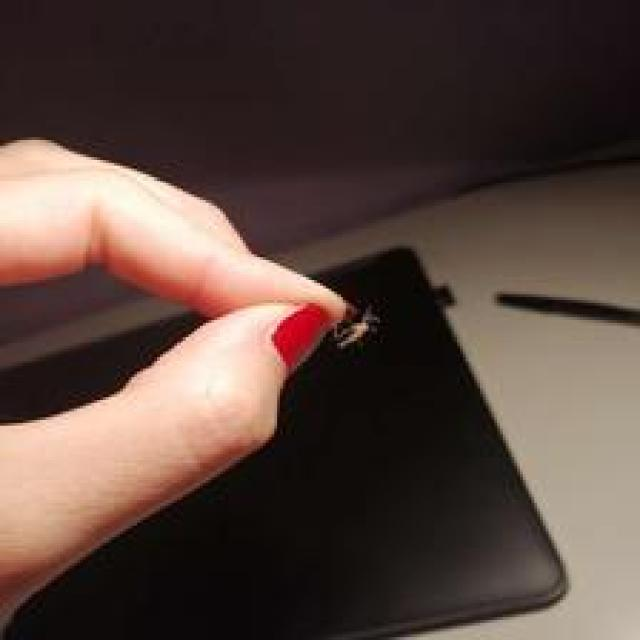Culex: (331, 303, 380, 351)
